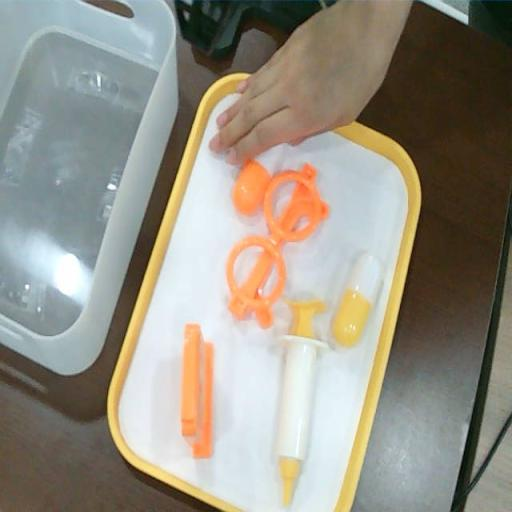hospital: (208, 1, 412, 168)
